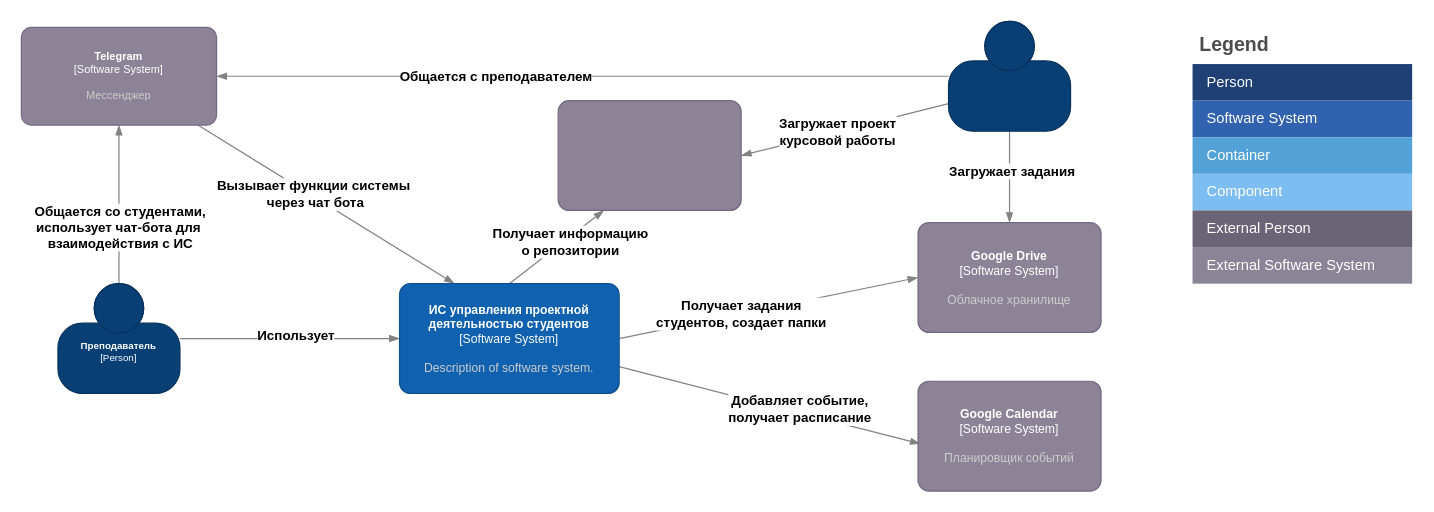
The diagram is 1434 pixels wide and 512 high, and some of its shapes have lost their labels. The shapes that lost their labels are listed below. From the top down, each one's centre as x and y in pixels, then its label:
At point (1009, 75): "Студент [Person]".
At point (649, 154): "GitHub [Software System] Менеджер репозиториев".
